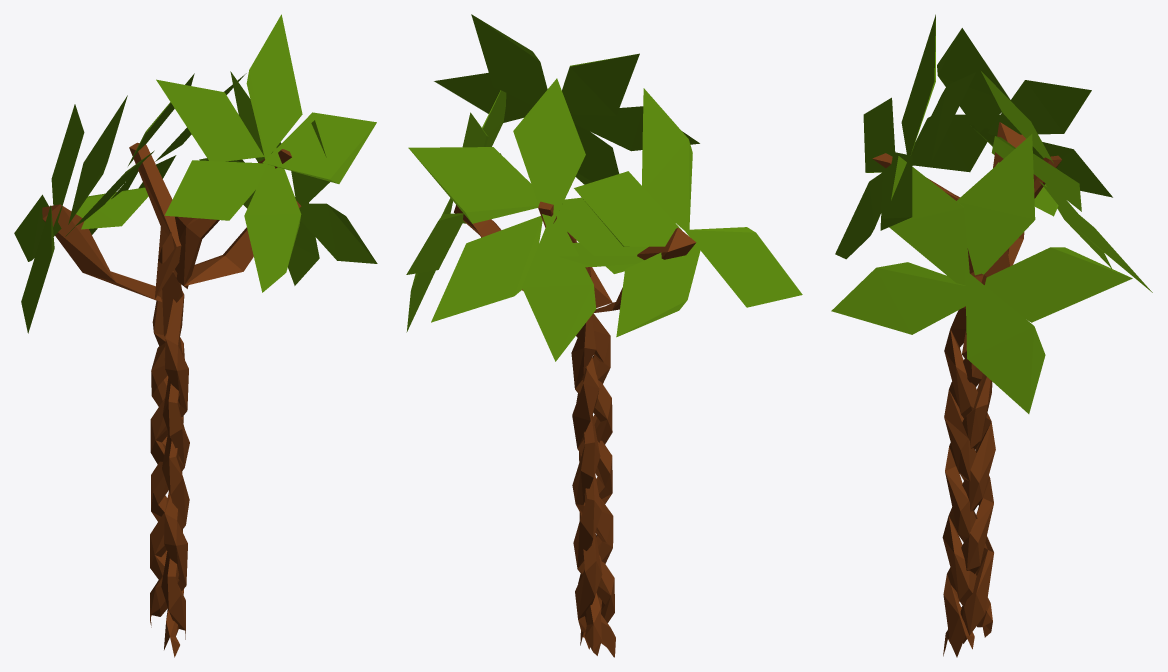
Rendered from arvre.fbx.
The picture shows the model from 3 angles, left to right: view 1: azimuth 30°, elevation 25°; view 2: azimuth 150°, elevation 25°; view 3: azimuth 270°, elevation 25°; orthographic projection. The views are drawn at different scales.
Parts seen in each view (by area): view 1: Plane.018, Cube; view 2: Plane.018, Cube; view 3: Plane.018, Cube.
Part boxes in pixels (box(x1,y1,x2,y2)): Plane.018: box(14, 14, 377, 333); Cube: box(42, 142, 301, 657); Plane.018: box(406, 14, 802, 361); Cube: box(454, 176, 696, 657); Plane.018: box(831, 14, 1152, 413); Cube: box(872, 122, 1061, 657).
Size of the model in its own units: 1639 by 2676 by 1205.
